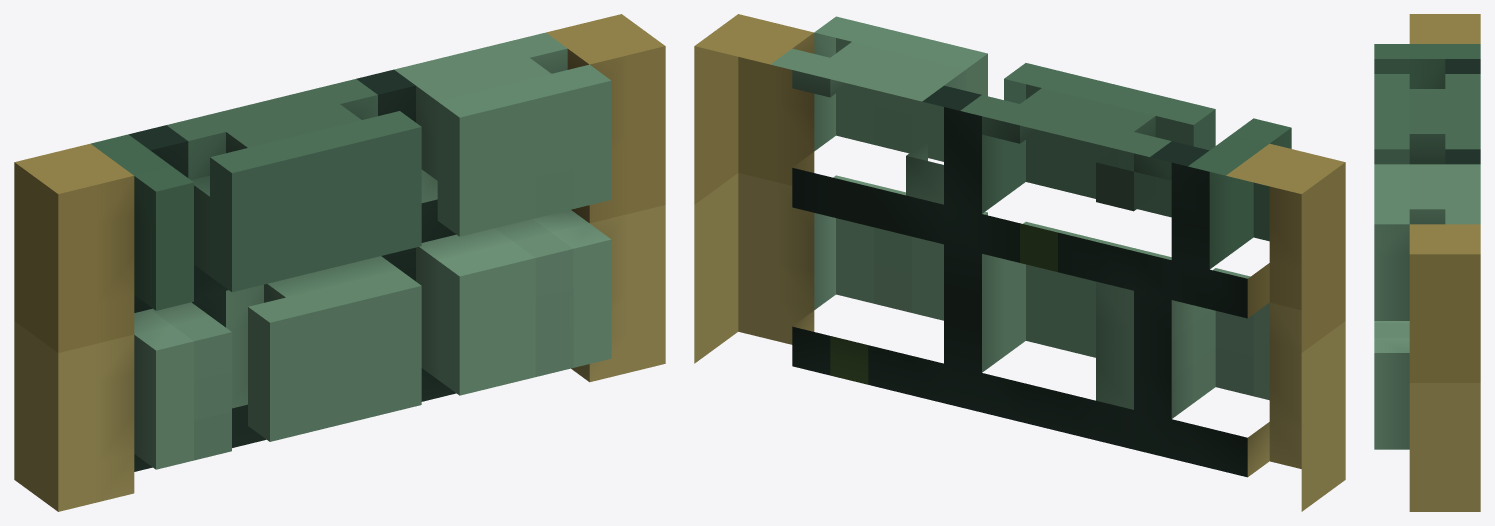
File: wall_plain_0.glb
3 renders of one model, left to right at view 1: azimuth 30°, elevation 25°; view 2: azimuth 150°, elevation 25°; view 3: azimuth 270°, elevation 25°, orthographic. The views are drawn at different scales.
Visible parts, largest first — view 1: wall_plain_0; view 2: wall_plain_0; view 3: wall_plain_0.
Part boxes in pixels (bbox=[...]): wall_plain_0: bbox=[14, 14, 665, 511]; wall_plain_0: bbox=[694, 14, 1345, 511]; wall_plain_0: bbox=[1374, 14, 1480, 511].
Bounding box in the file's own units: 1 × 0.5 × 0.1875.
